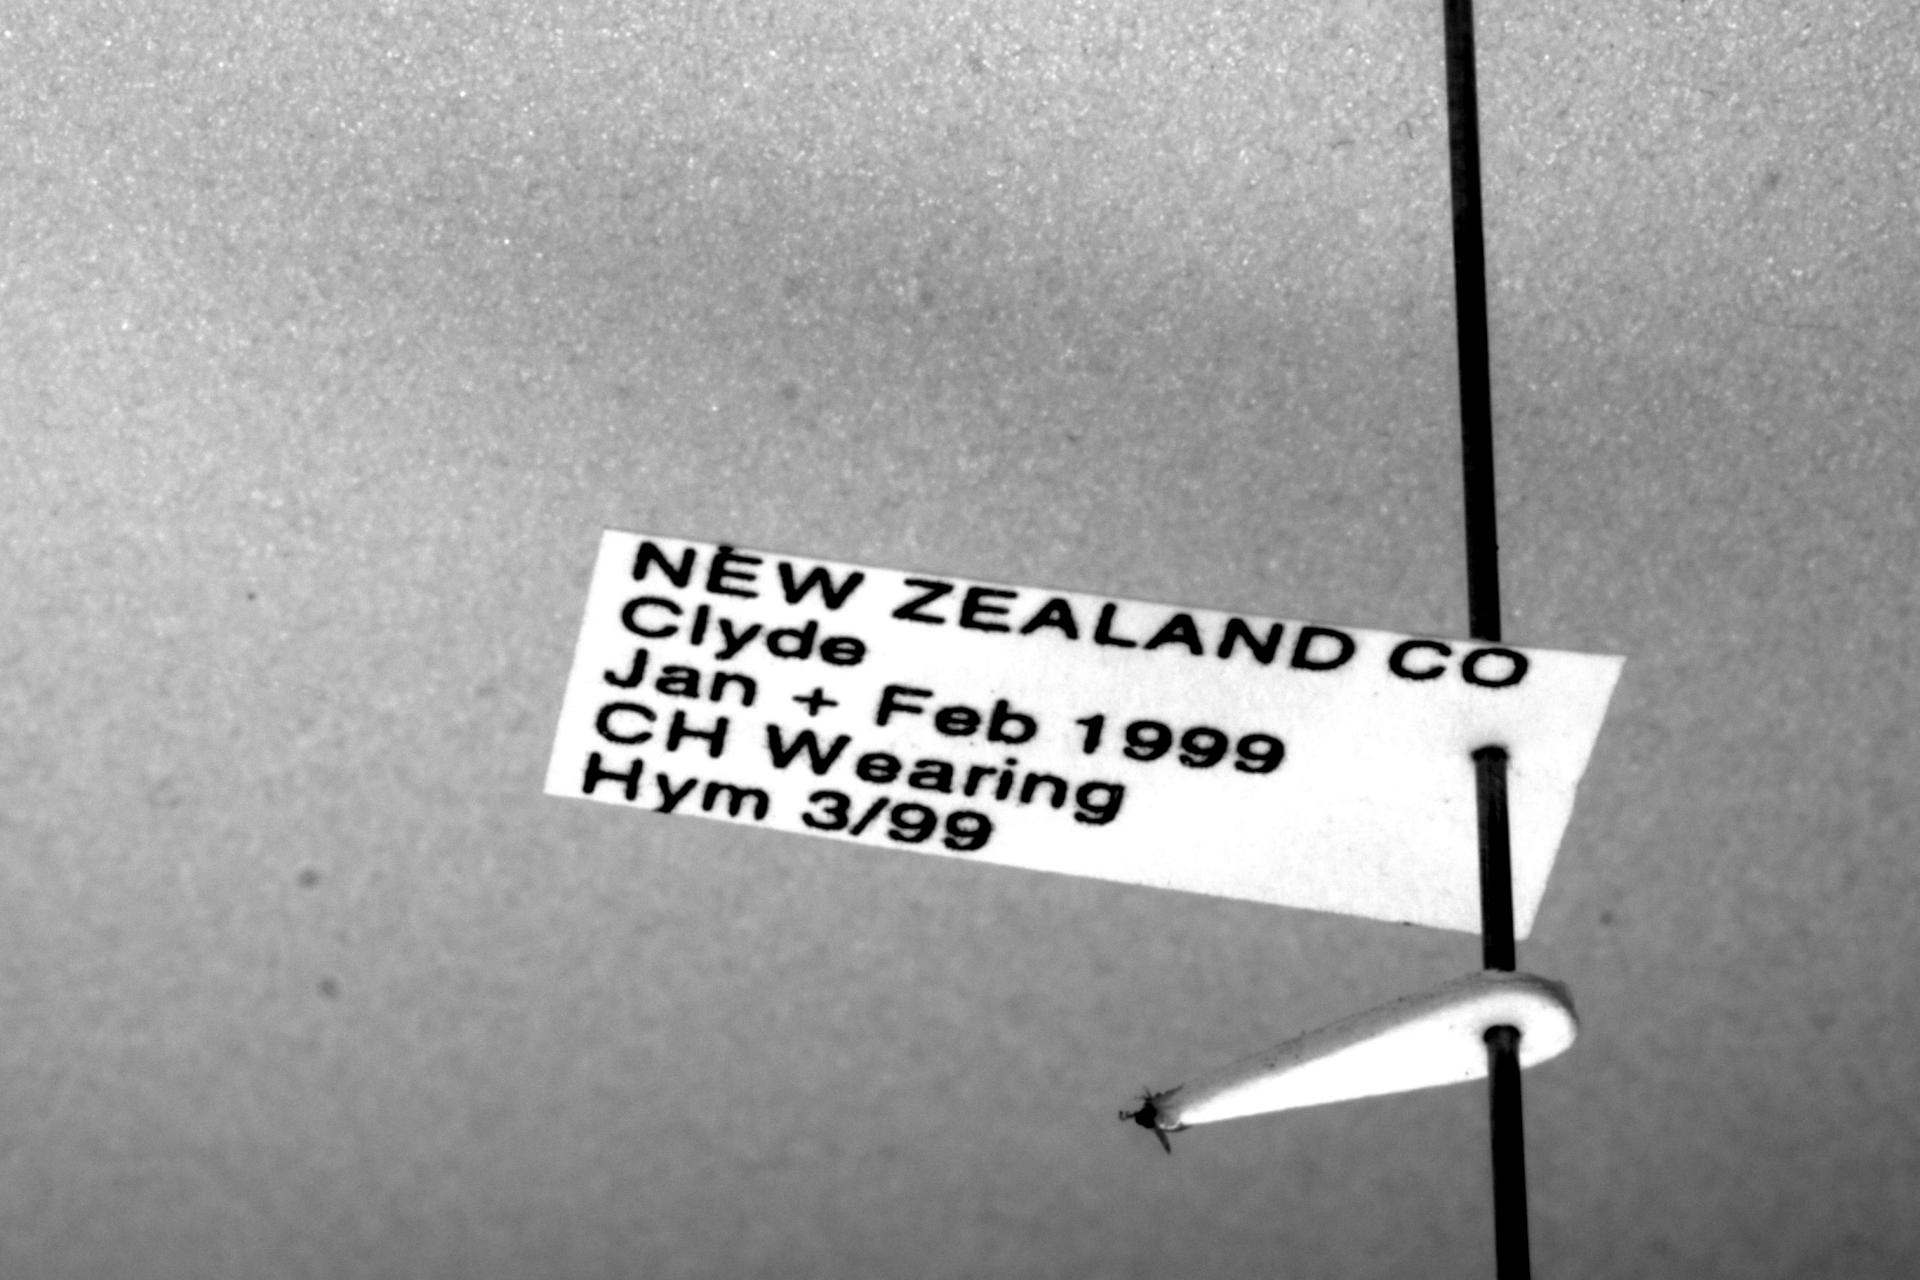typed_label: (544, 529, 1624, 934)
